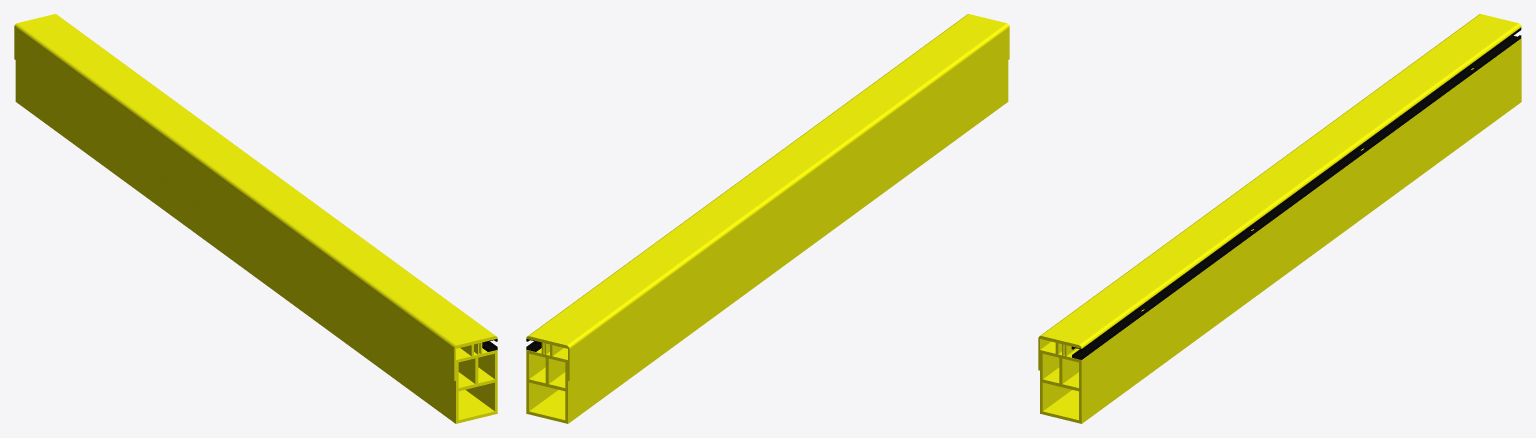
The model's file is rafterSide.glb.
3 renders of one model, left to right at view 1: azimuth 30°, elevation 25°; view 2: azimuth 150°, elevation 25°; view 3: azimuth 330°, elevation 25°, orthographic.
Parts seen in each view (by area): view 1: Trager_Deckel_Seiten_1m1, Group2; view 2: Trager_Deckel_Seiten_1m1, Group2; view 3: Group2, Trager_Deckel_Seiten_1m1, Group3, Group1.
Boxes of the visible parts, x1,y1,x2,y2 form: Trager_Deckel_Seiten_1m1: (14,14,497,380); Group2: (15,60,497,423); Trager_Deckel_Seiten_1m1: (526,14,1009,380); Group2: (526,60,1008,423); Group2: (1040,38,1521,423); Trager_Deckel_Seiten_1m1: (1038,14,1521,370); Group3: (1072,35,1521,359); Group1: (1071,27,1521,351).
Bounding box in the file's own units: 0.057 × 0.0981 × 1.
Materials: 3 (2 with a texture image).
